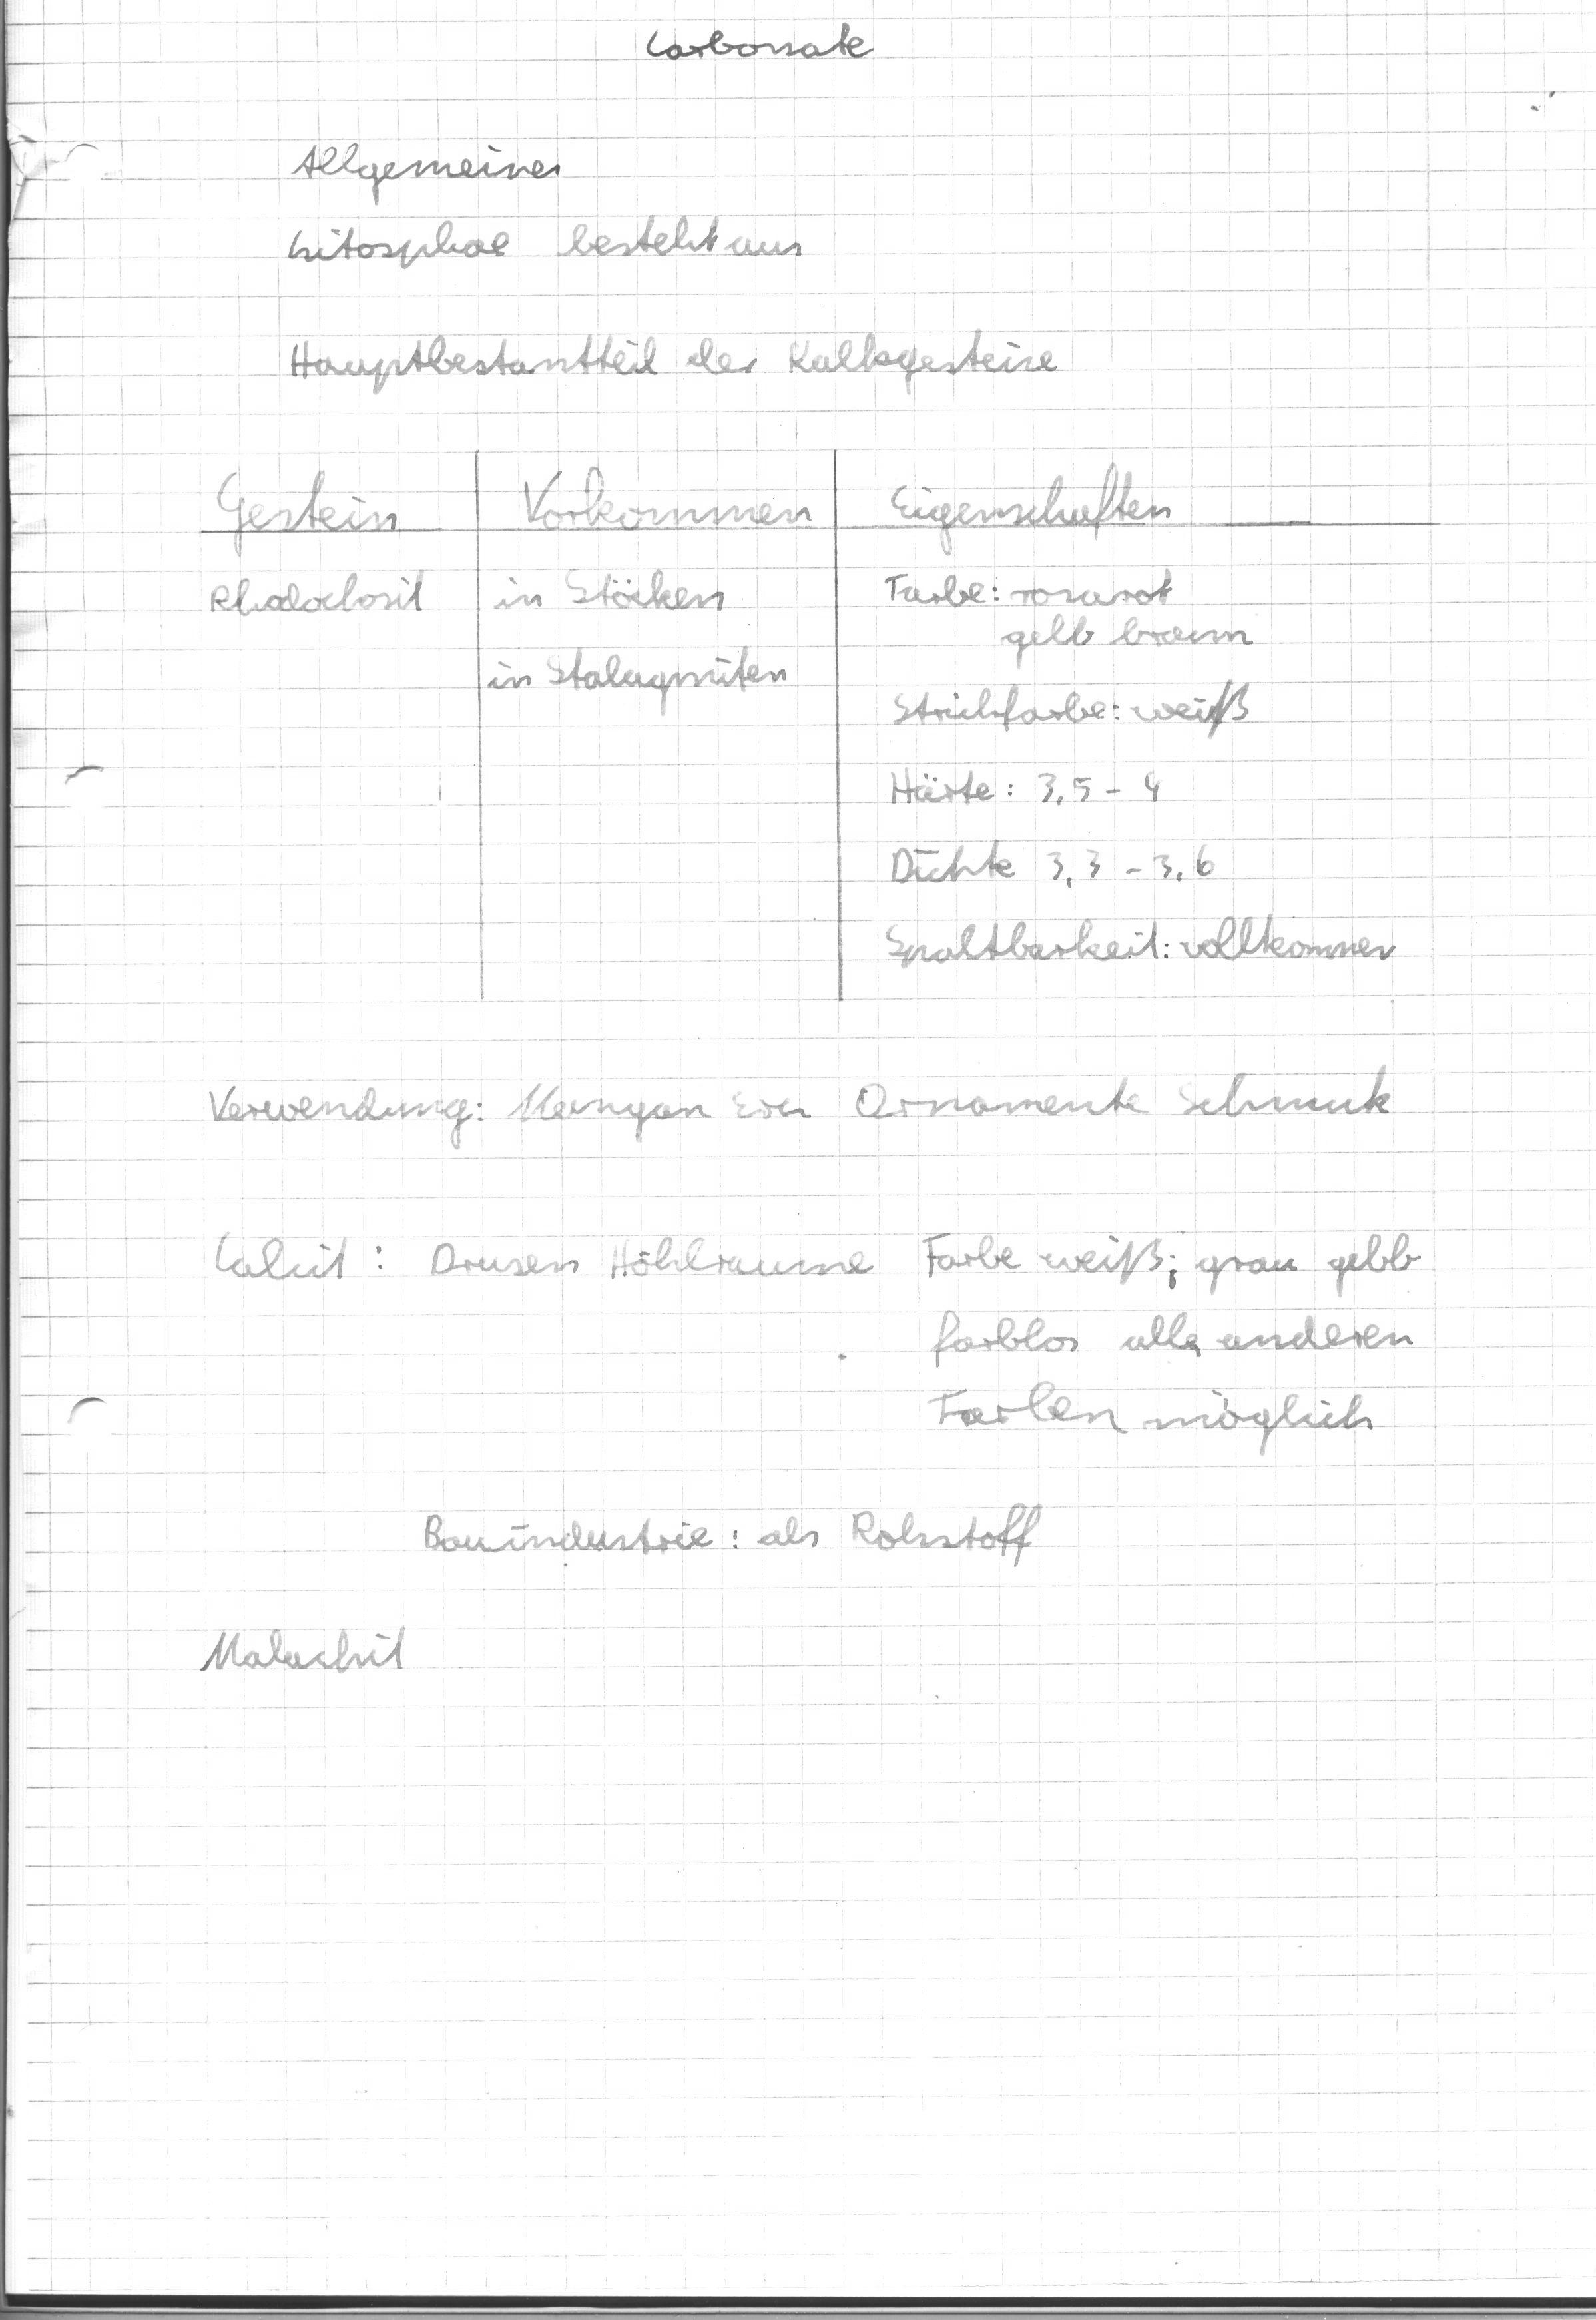word: (168, 1202, 1438, 1474), (176, 447, 1266, 748), (165, 1041, 1412, 1161), (866, 755, 1417, 977), (260, 308, 1070, 420), (263, 133, 832, 290), (396, 1471, 1082, 1589), (120, 1581, 469, 1729)
